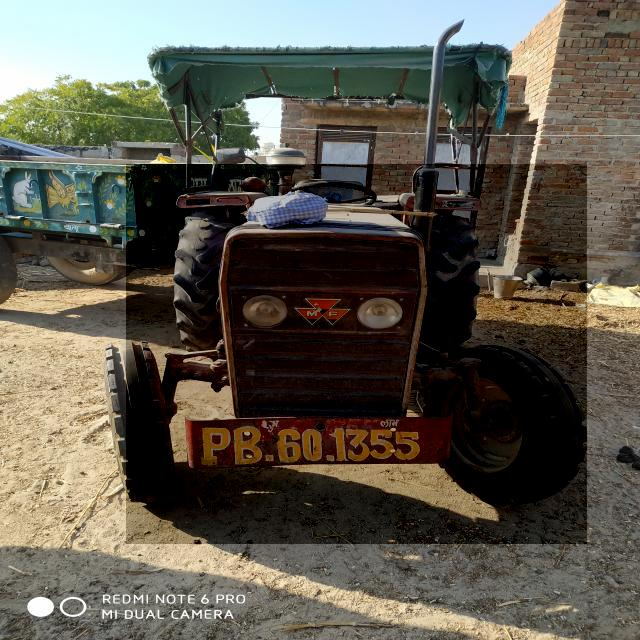Tractot: (126, 164, 587, 544)
